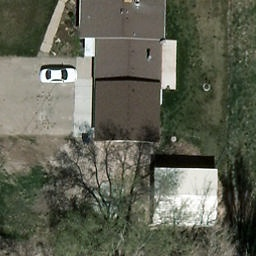car: (40, 68, 79, 83)
